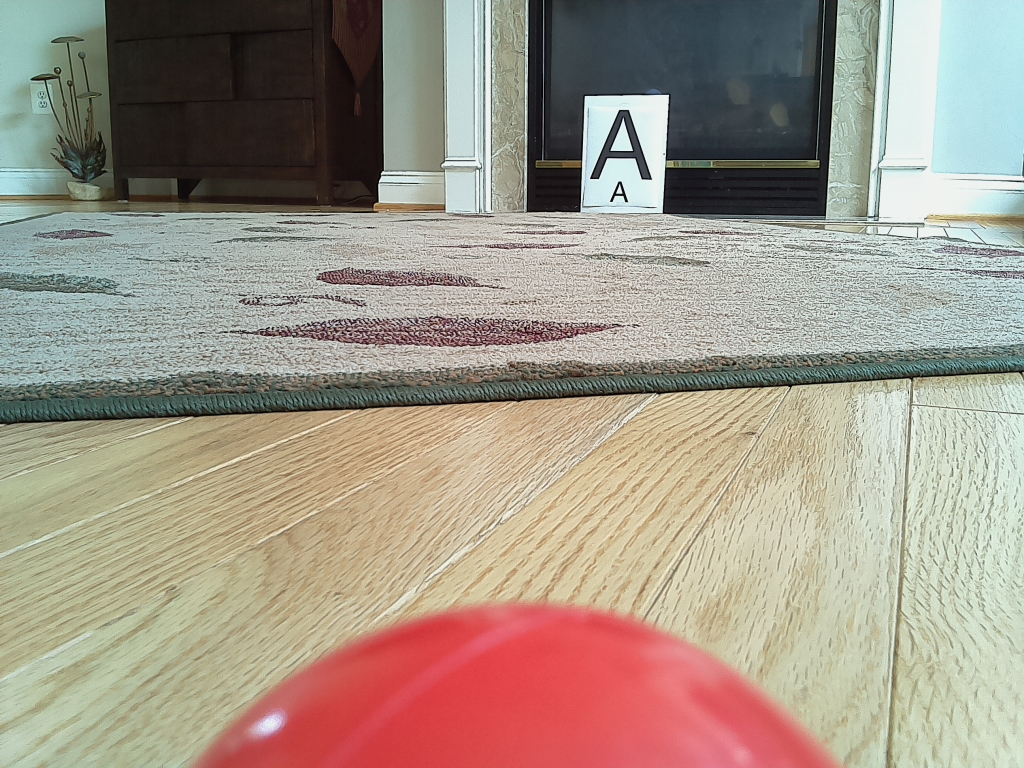letter: (591, 109, 650, 179)
